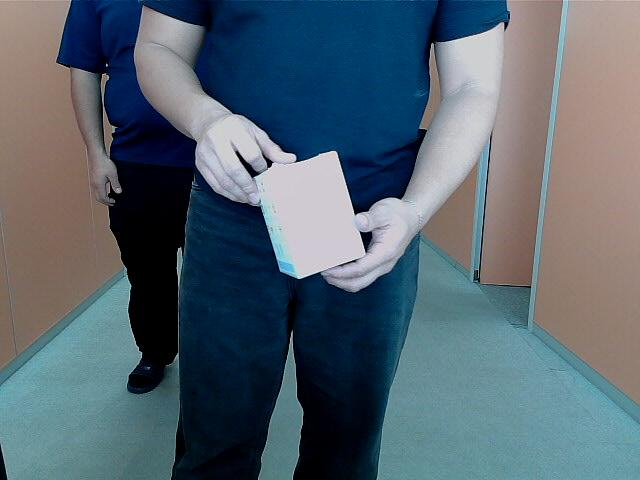Blind_box: (247, 148, 369, 284)
